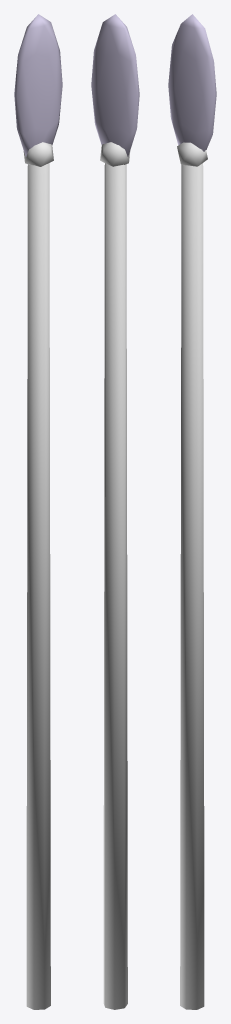
File: starlight.glb
The picture shows the model from 3 angles, left to right: view 1: azimuth 30°, elevation 25°; view 2: azimuth 150°, elevation 25°; view 3: azimuth 330°, elevation 25°; orthographic projection.
Parts seen in each view (by area): view 1: starlight_v0; view 2: starlight_v0; view 3: starlight_v0.
Part boxes in pixels (left/top/right/bottom): starlight_v0: left=14, top=14, right=62, bottom=1009; starlight_v0: left=91, top=14, right=139, bottom=1009; starlight_v0: left=168, top=14, right=216, bottom=1009.
Bounding box in the file's own units: 0.0761 × 1.57 × 0.0425.
